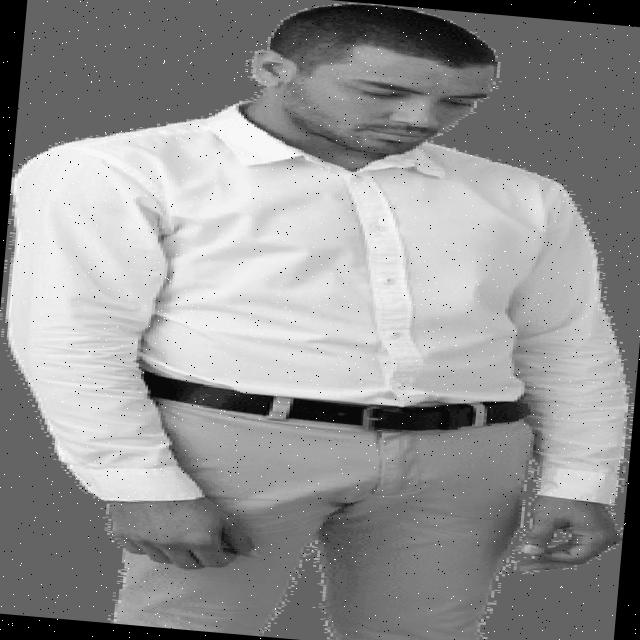Sadness: (338, 39, 492, 162)
